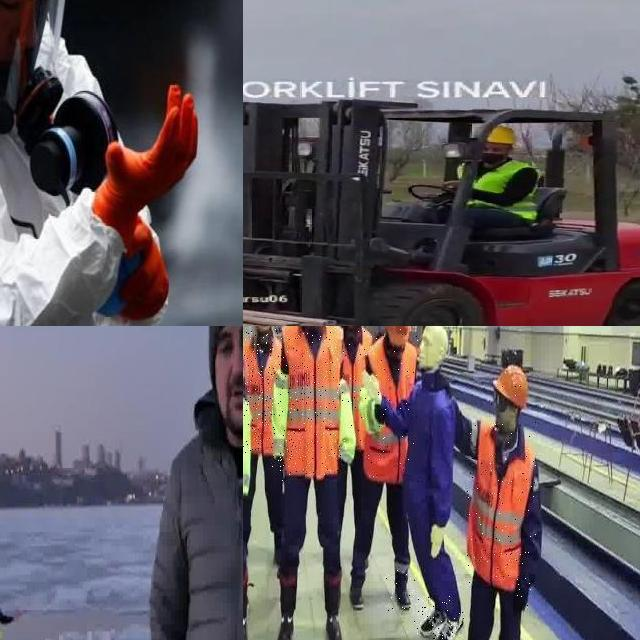BOOTS: (385, 570, 418, 616), (412, 596, 450, 634), (433, 607, 465, 640)
GLOVE: (93, 78, 201, 223)
HELMET: (491, 365, 529, 405), (385, 326, 411, 350)
VEST: (467, 420, 536, 592), (282, 326, 342, 478), (366, 335, 418, 485), (243, 329, 283, 453), (341, 328, 371, 448)
